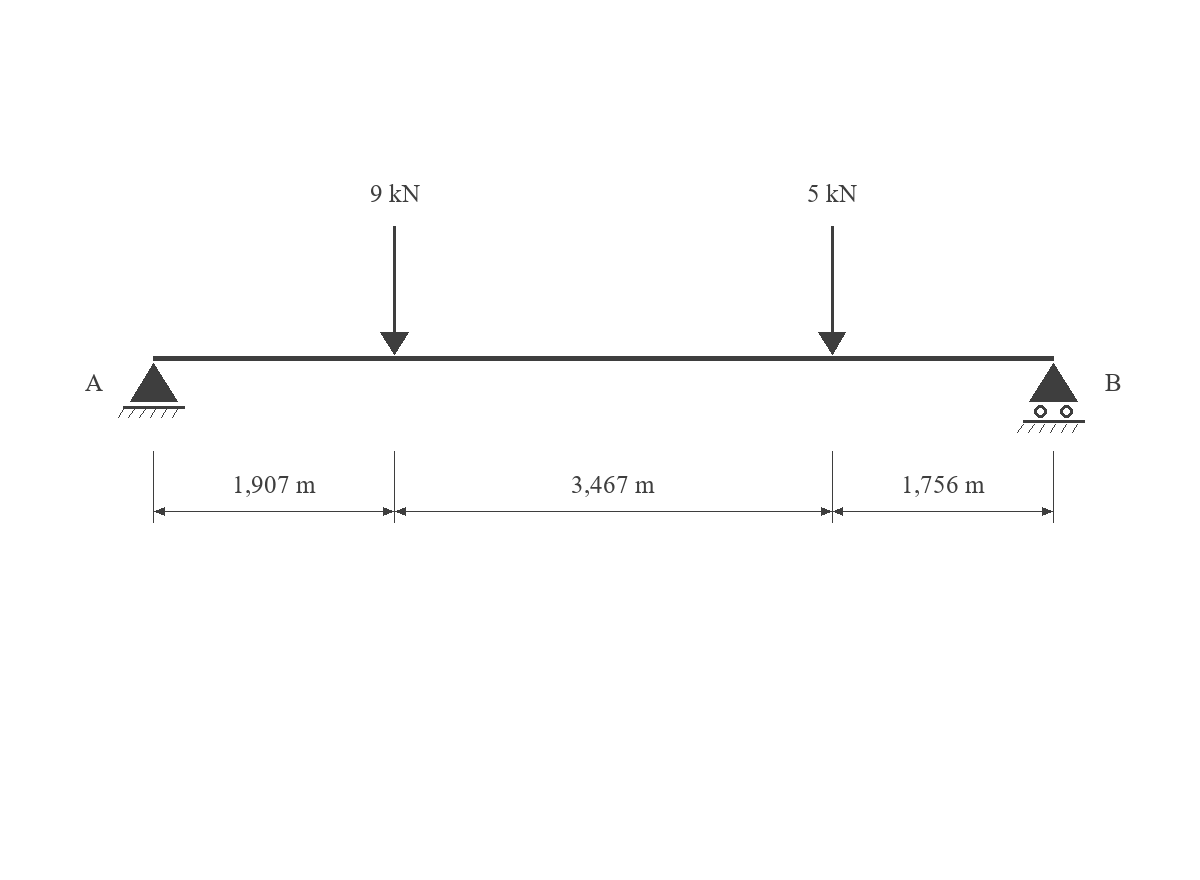pin_support: (118, 363, 185, 418)
point_load: (380, 226, 409, 355), (818, 226, 846, 355)
roller_support: (1017, 363, 1085, 433)
